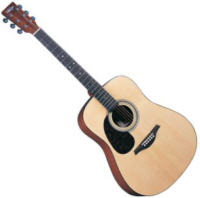guitar: (1, 2, 197, 196)
